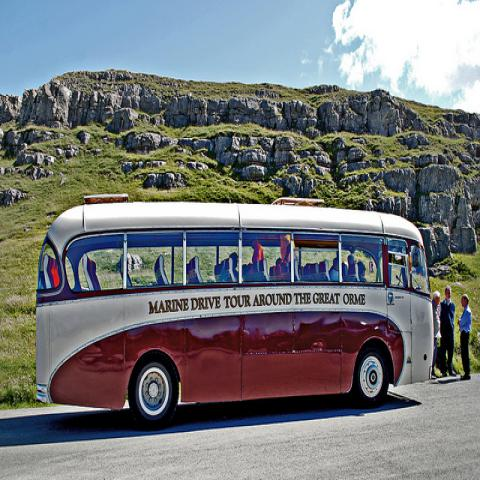bus: (20, 193, 438, 426)
